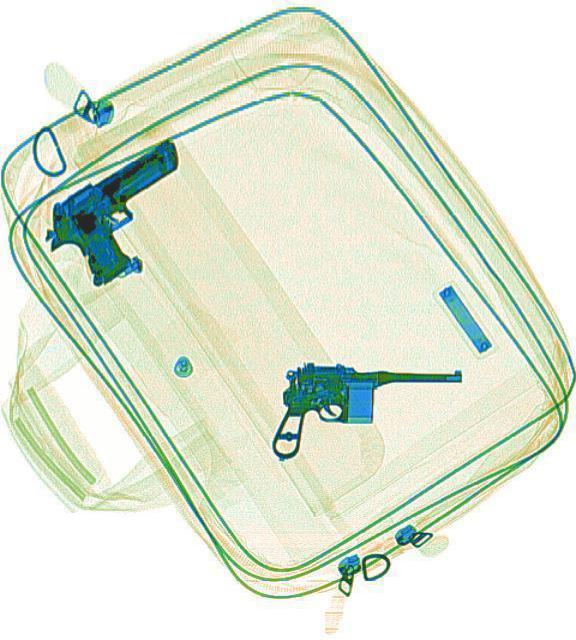Gun: (28, 132, 215, 298), (269, 360, 460, 462)
